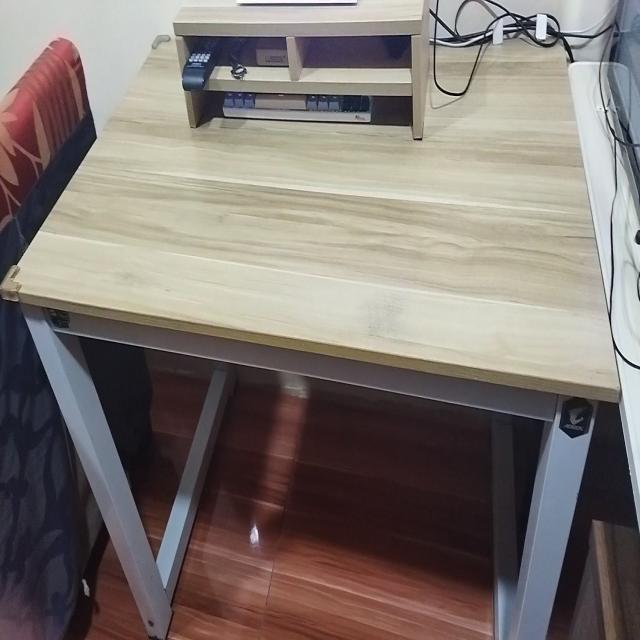table: (4, 28, 619, 640)
